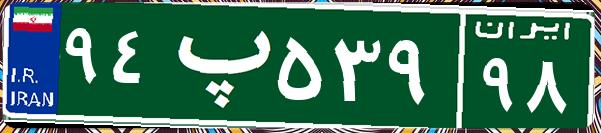3: (330, 28, 385, 110)
4: (110, 28, 158, 105)
5: (273, 28, 330, 110)
8: (525, 38, 570, 115)
9: (385, 28, 445, 110), (57, 26, 110, 107), (475, 38, 525, 113)
پ: (158, 15, 273, 115)
